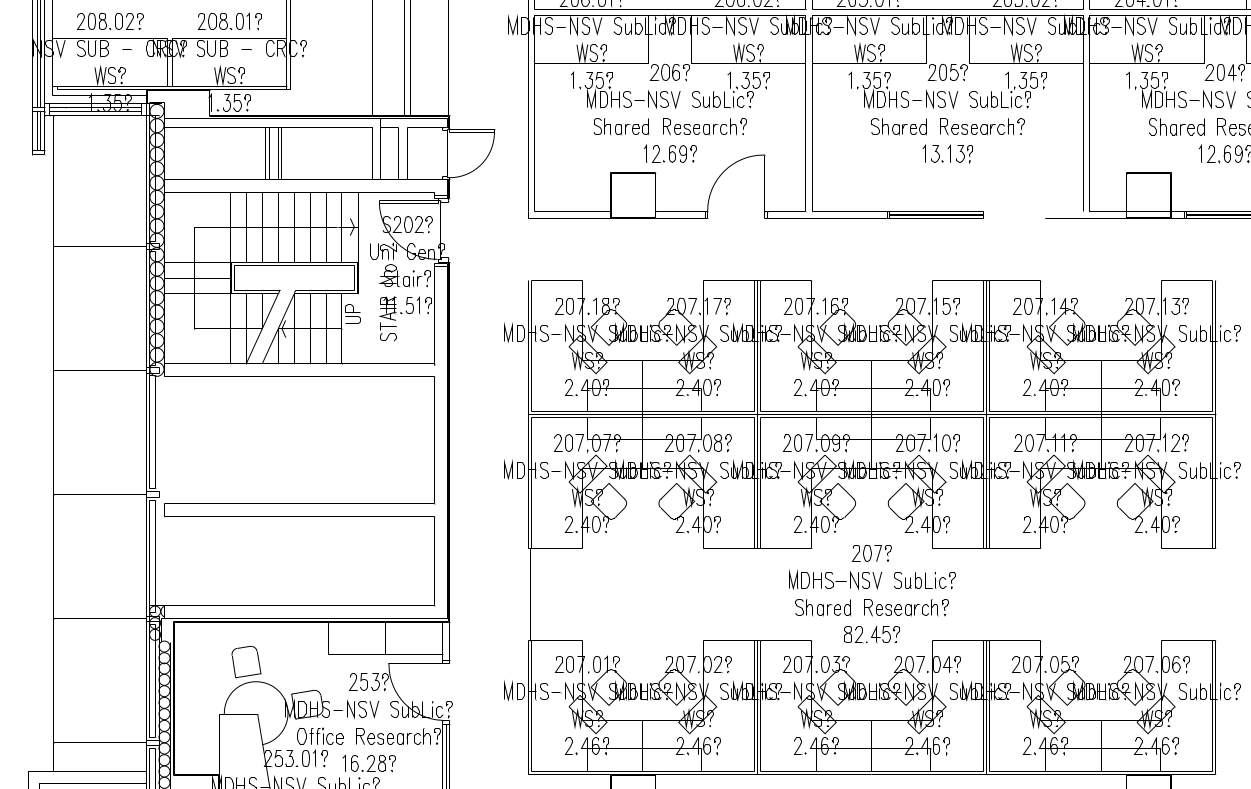door: (702, 148, 772, 219), (384, 658, 443, 723), (449, 123, 497, 177)
